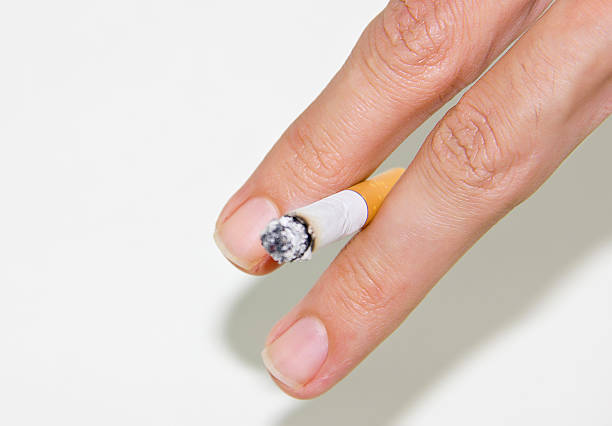cigarette: (257, 167, 423, 264)
